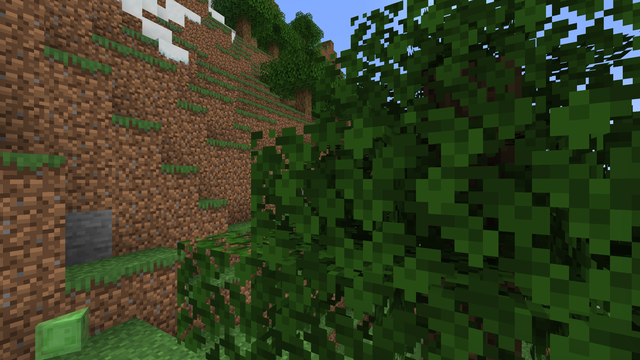slimes: (38, 304, 92, 358)
